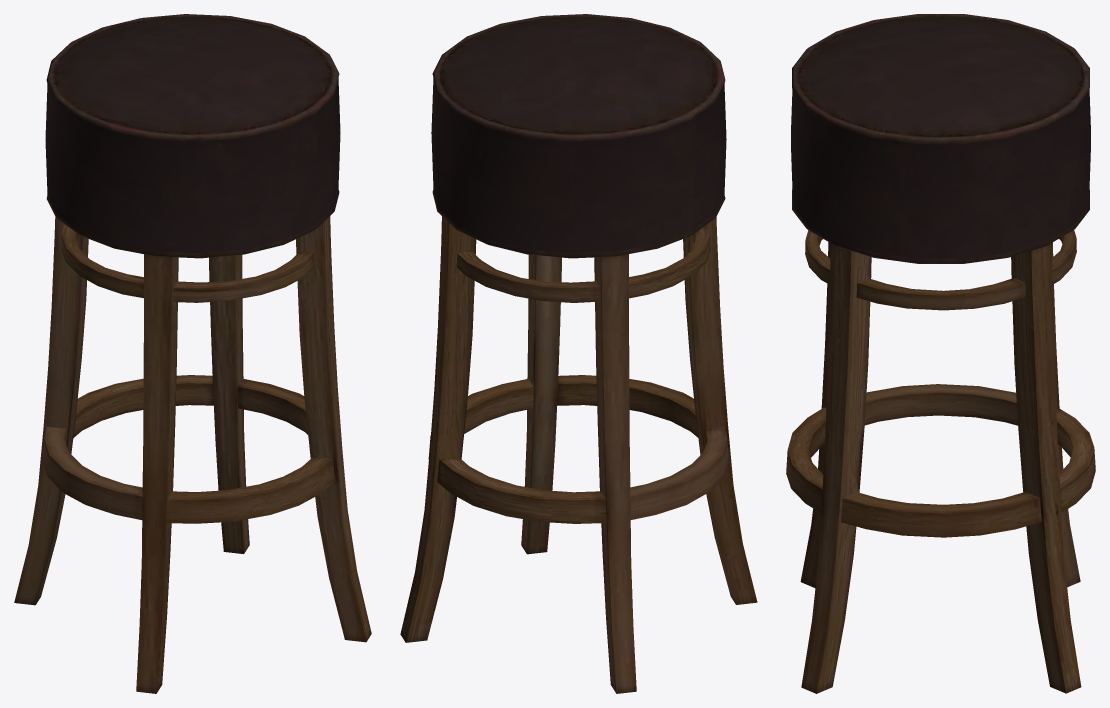
File: tabouret-bar.glb
The picture shows the model from 3 angles, left to right: view 1: azimuth 30°, elevation 25°; view 2: azimuth 150°, elevation 25°; view 3: azimuth 270°, elevation 25°; orthographic projection. The views are drawn at different scales.
Parts seen in each view (by area): view 1: re_ho_02; view 2: re_ho_02; view 3: re_ho_02.
Part boxes in pixels (x1=…): re_ho_02: x1=14, y1=14, x2=371, y2=693; re_ho_02: x1=400, y1=14, x2=757, y2=693; re_ho_02: x1=786, y1=14, x2=1095, y2=693.
Bounding box in the file's own units: 0.4024 × 0.8264 × 0.4024.
Materials: 1 (1 with a texture image).
